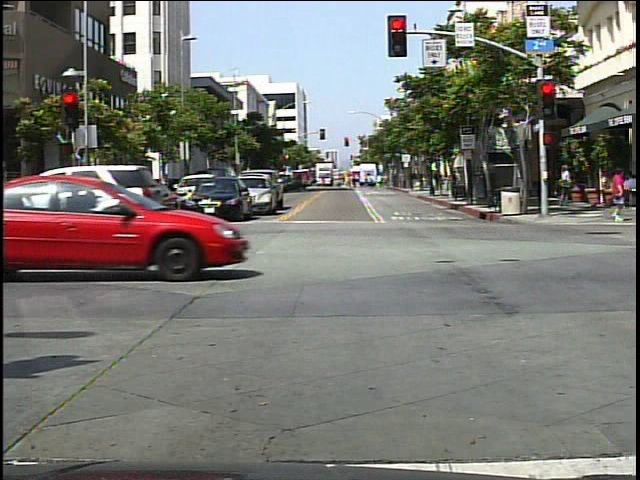person: (66, 171, 97, 235), (606, 167, 633, 228), (555, 162, 578, 213)
